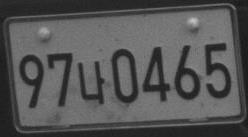0: (111, 47, 139, 104)
4: (141, 46, 170, 102)
5: (203, 42, 232, 98)
6: (173, 45, 201, 100)
7: (46, 51, 73, 106)
9: (18, 53, 45, 108)
나: (76, 59, 106, 104)
